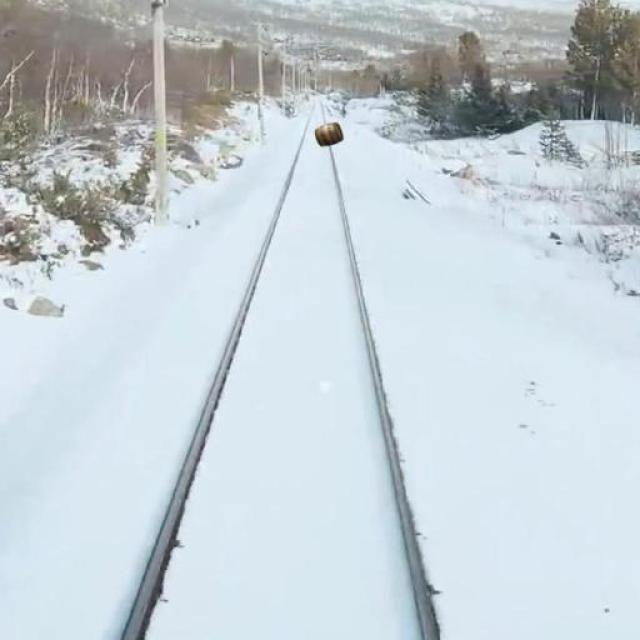Other_objects: (310, 121, 349, 146)
